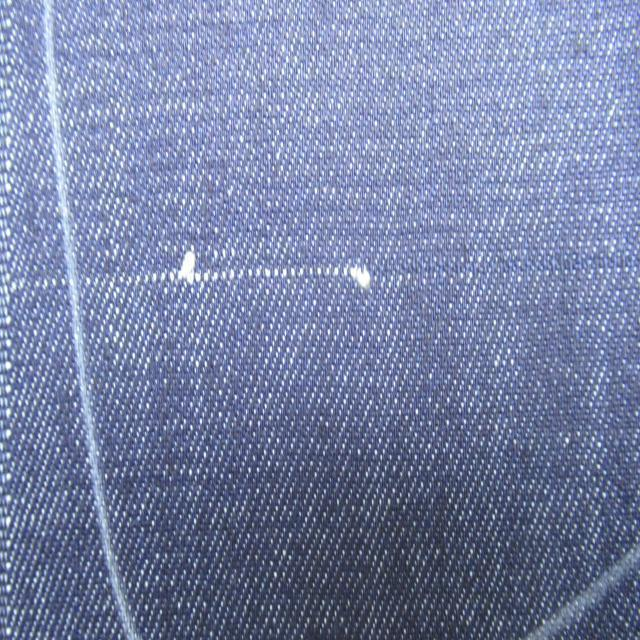pulled_or_thick_thread: (30, 239, 373, 294)
